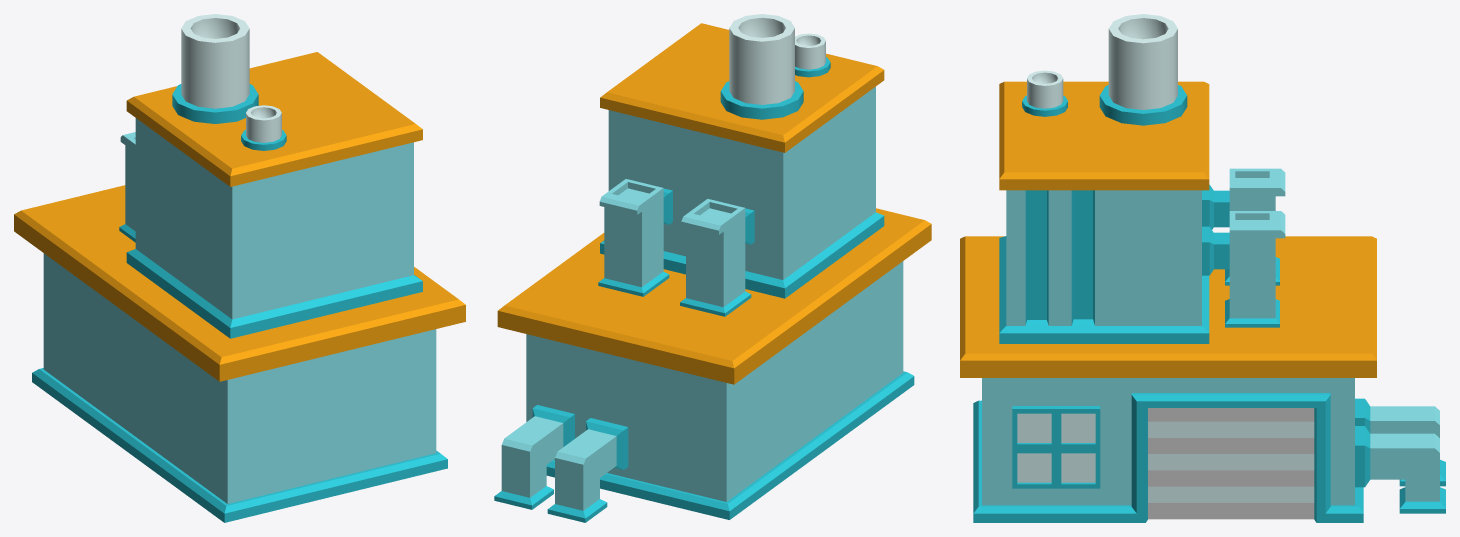
Rendered from house.fbx.
The picture shows the model from 3 angles, left to right: view 1: azimuth 30°, elevation 25°; view 2: azimuth 150°, elevation 25°; view 3: azimuth 270°, elevation 25°; orthographic projection. The views are drawn at different scales.
Parts seen in each view (by area): view 1: House; view 2: House; view 3: House.
Part boxes in pixels (left/top/right/bottom): House: left=14, top=14, right=465, bottom=522; House: left=494, top=14, right=931, bottom=522; House: left=960, top=14, right=1445, bottom=522.
Bounding box in the file's own units: 176 × 284 × 297.
